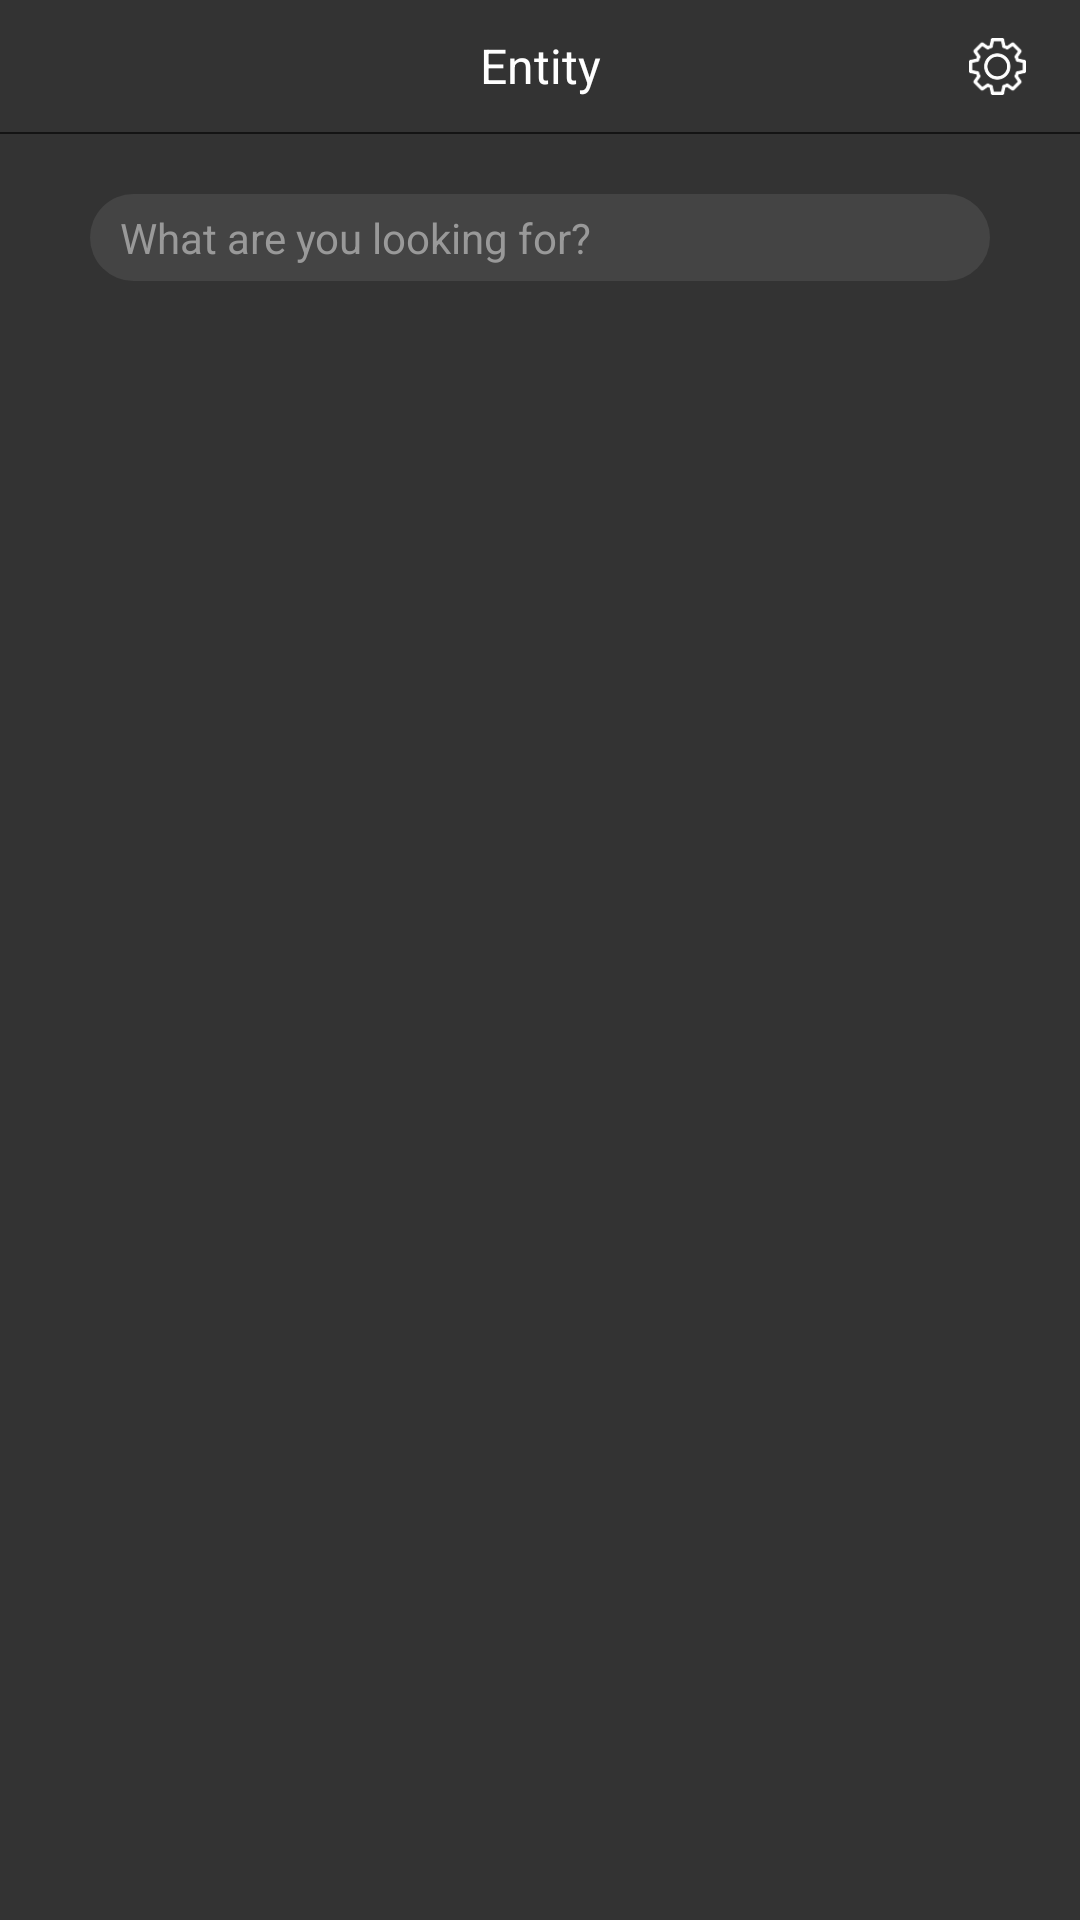

Where to tap for icons on this 1080px x 1920px app screen, as (x=x, y=y):
settings: (x=997, y=66)
